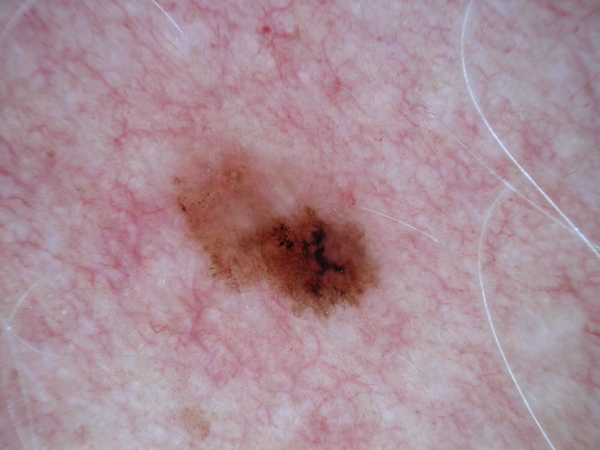Detected Lesion: (169, 159, 386, 323)
